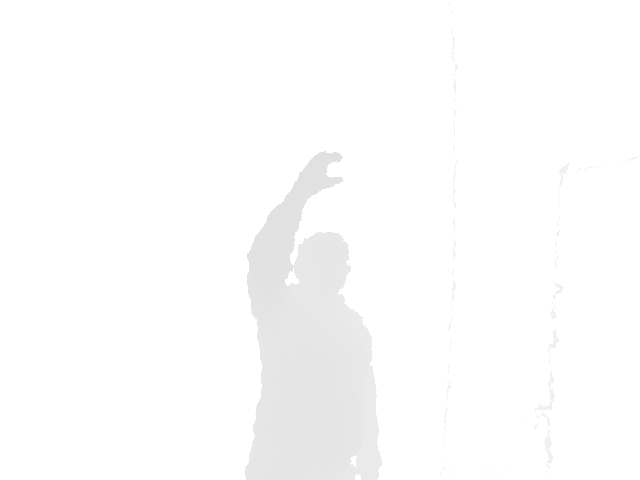hand: (295, 150, 344, 197)
head: (292, 230, 353, 294)
person: (242, 150, 384, 480)
